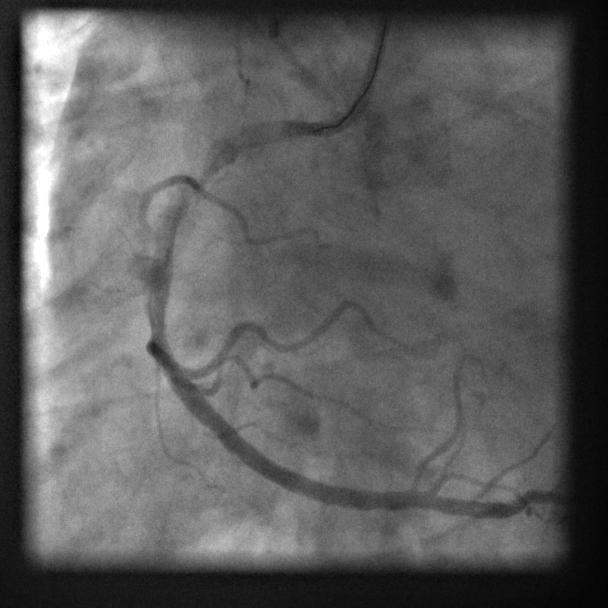Stenosis: (187, 145, 217, 200)
